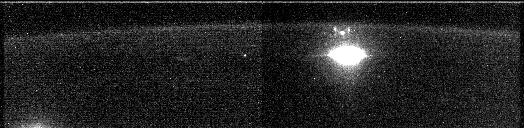positive: (330, 25, 354, 40)
